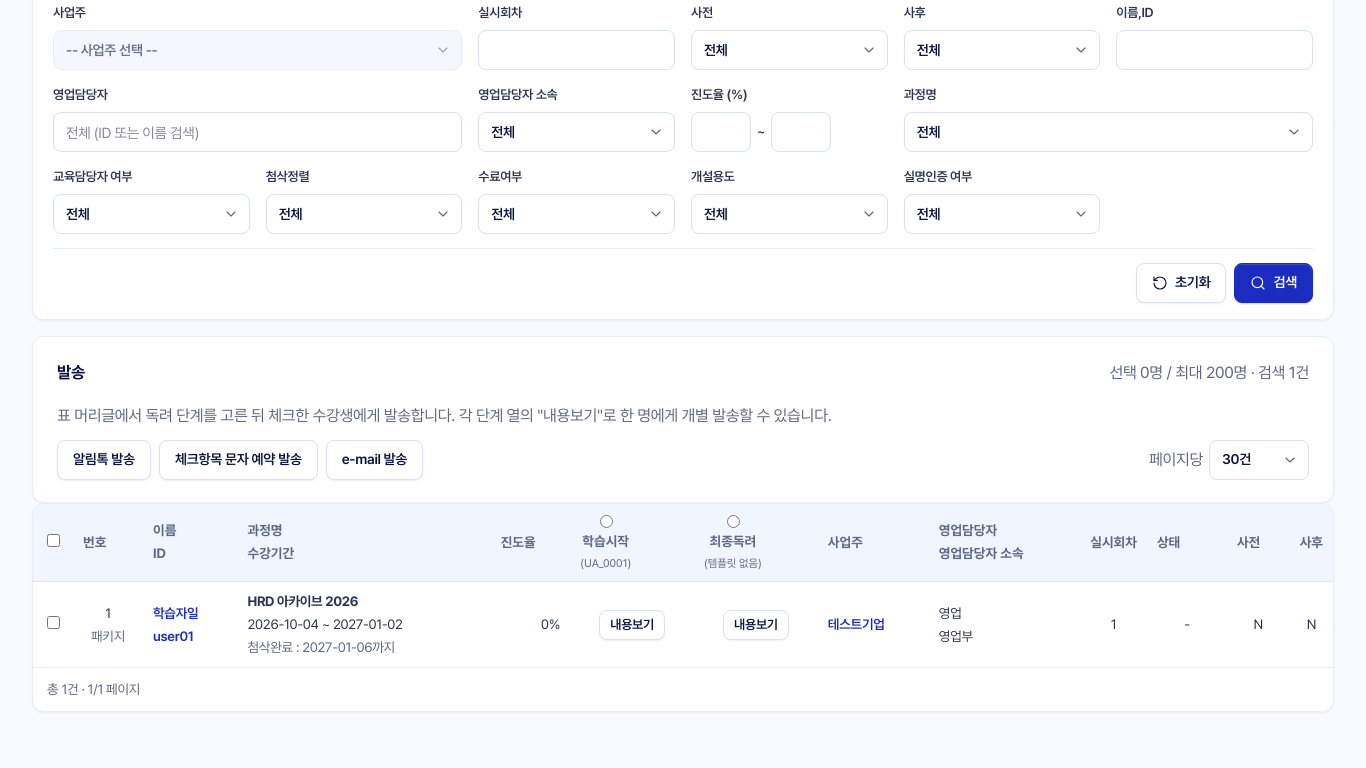
독려 관리 pages › 학습참여독려: filters, stage radios with template codes, legacy columns, preview → send writes a log only
This screenshot has width=1366, height=768.
(page scrolled)
Expected: the text "HRD 아카이브 2026" is shown, [248, 593, 358, 609]
Expected: the column heading "실시회차" is shown, [1080, 504, 1147, 582]
Click the button with aria-label "학습시작 내용보기 user01".
click(632, 625)  # box [599, 610, 665, 640]
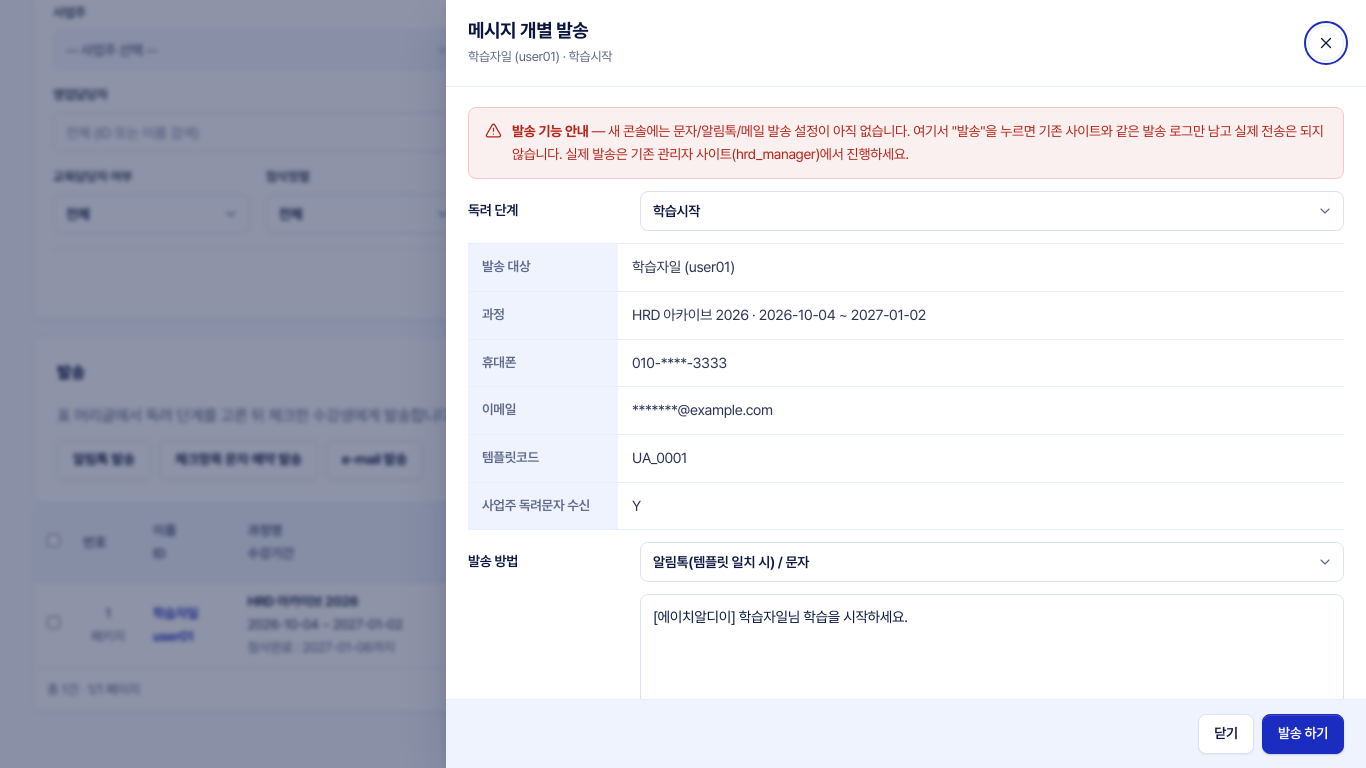
Result: the text "010-****-3333" is shown at [618, 340, 1344, 387]
Click the button "발송 하기".
click(1303, 734)  # box [1262, 714, 1344, 754]
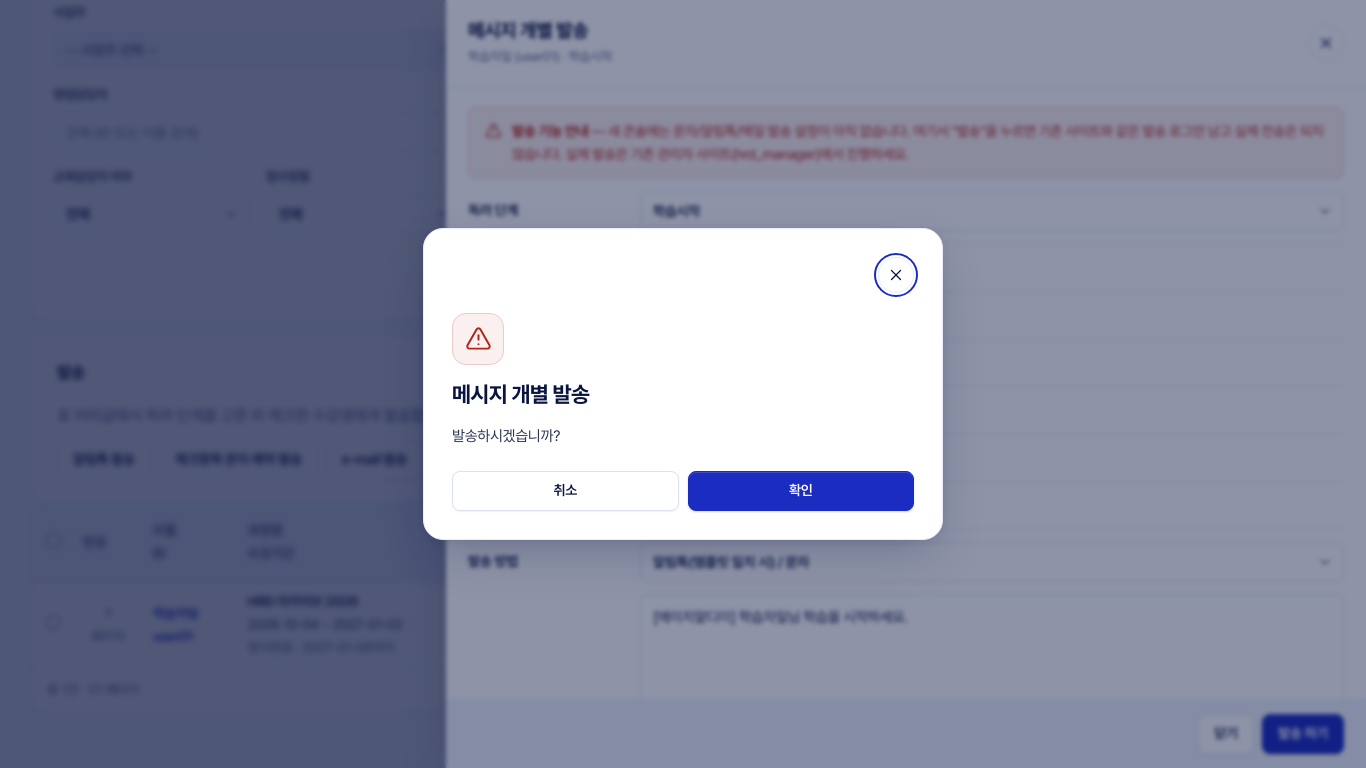
Result: the text "발송하시겠습니까?" is shown at [452, 427, 560, 445]
Click the button "확인".
click(801, 491)  # box [688, 471, 914, 511]
(page scrolled)
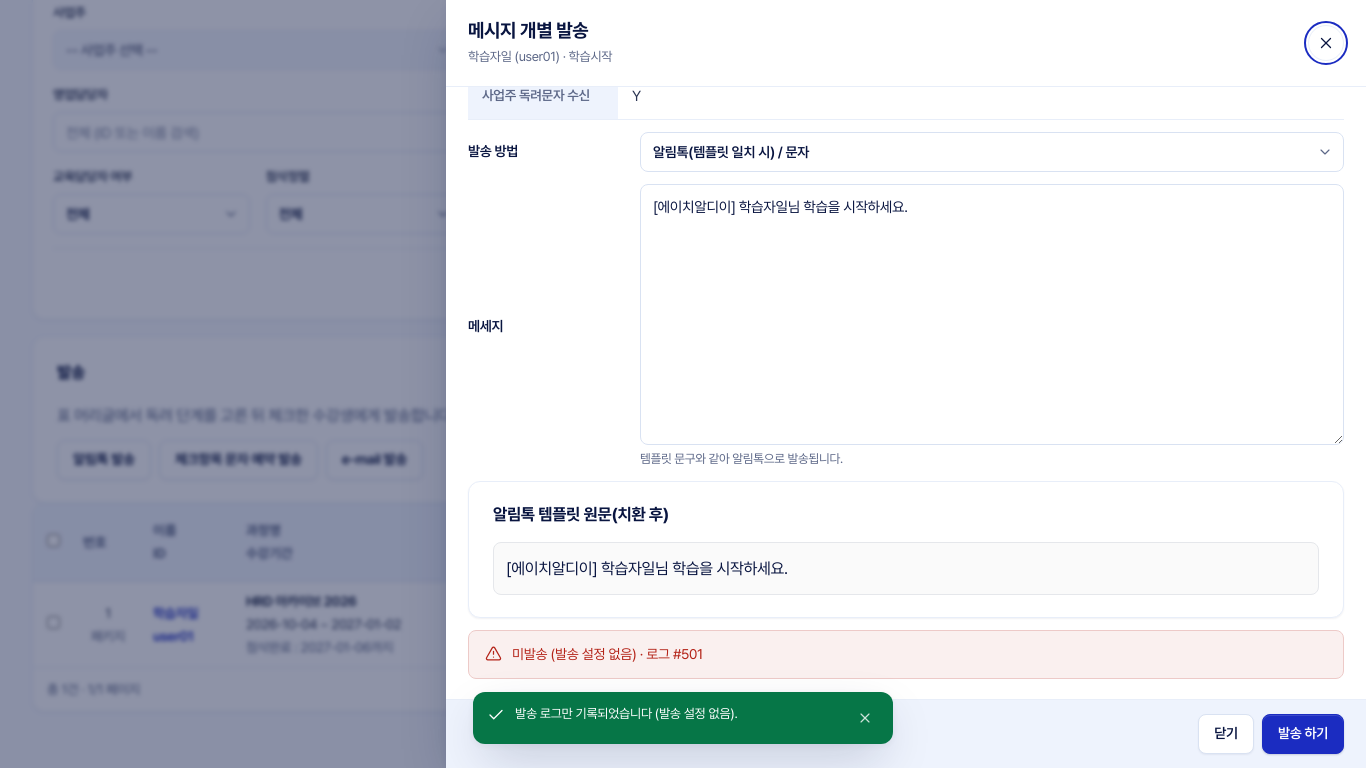
Result: the text "미발송 (발송 설정 없음) · 로그 #501" is shown at [512, 643, 703, 666]
